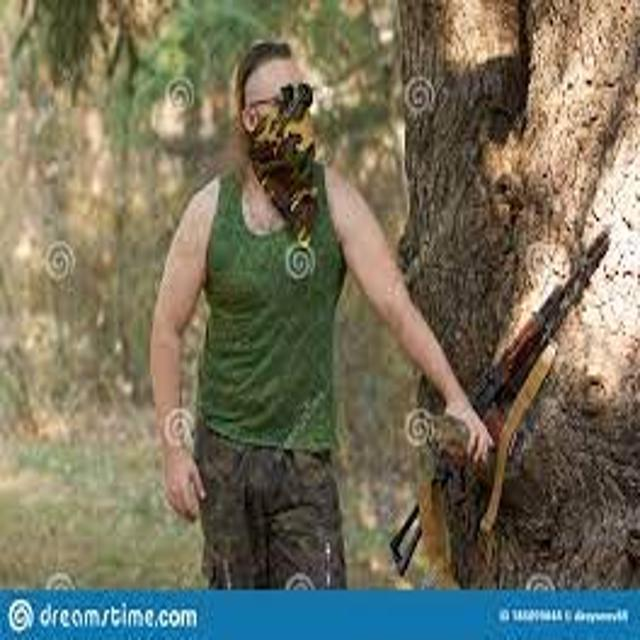gun: (370, 208, 640, 590)
poacher: (122, 27, 515, 595)
